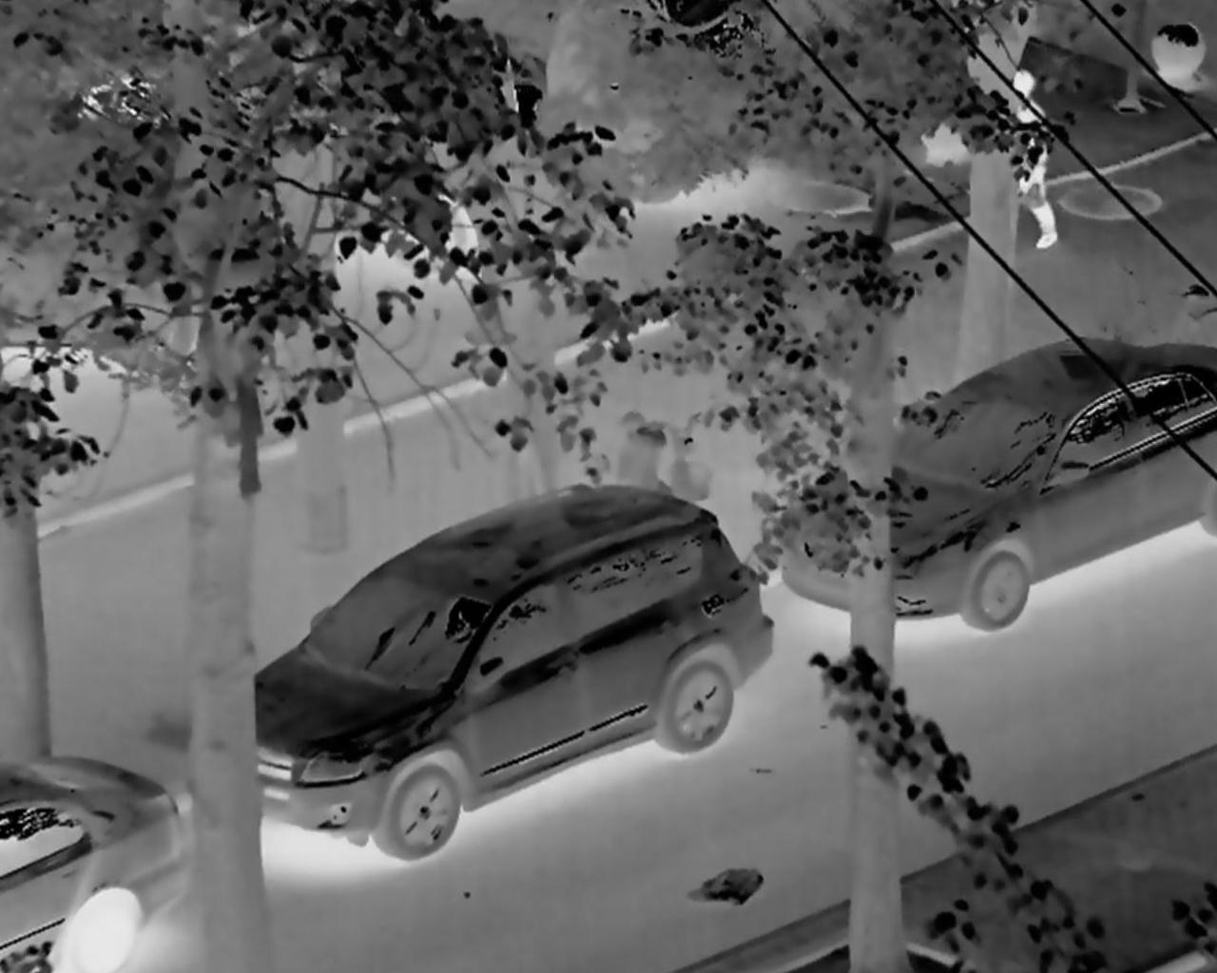person: (983, 71, 1065, 260)
